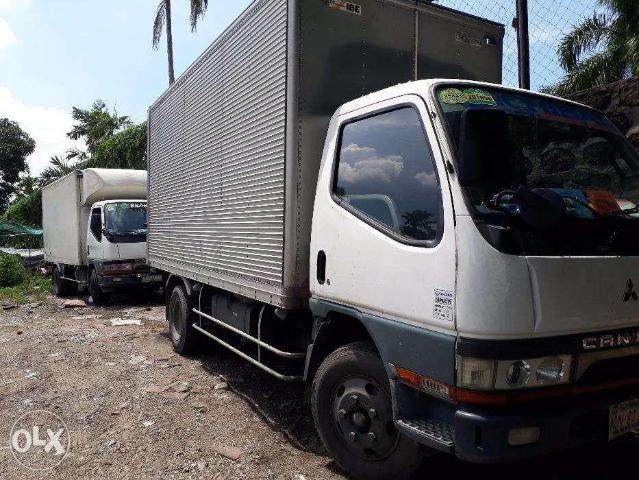truck: (145, 4, 625, 474), (37, 167, 159, 308)
